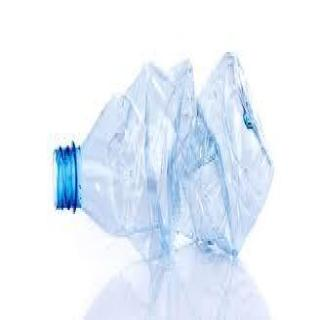Plastic-bottle: (50, 47, 277, 275)
